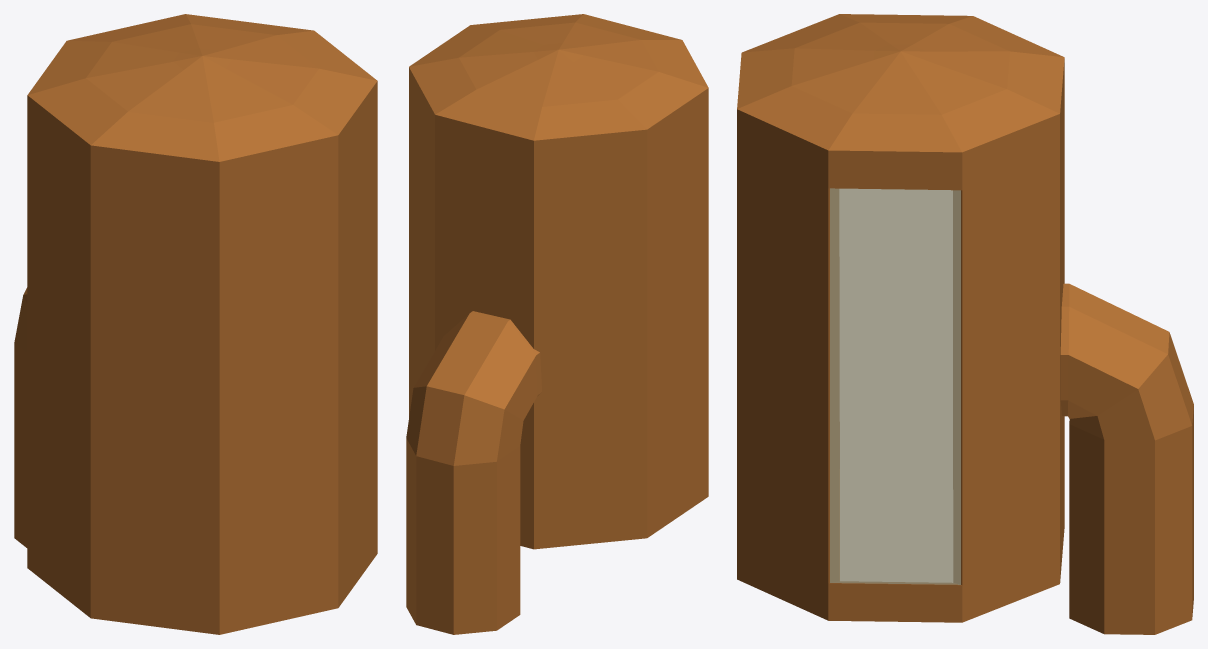
File: VAT80.glb
3 renders of one model, left to right at view 1: azimuth 30°, elevation 25°; view 2: azimuth 150°, elevation 25°; view 3: azimuth 270°, elevation 25°, orthographic. The views are drawn at different scales.
Visible parts, largest first — view 1: Cylinder, Cylinder.001; view 2: Cylinder, Cylinder.001; view 3: Cylinder, glass, liquidHeight, Cylinder.001.
Part boxes in pixels (bbox=[...]): Cylinder: bbox=[27, 14, 377, 634]; Cylinder.001: bbox=[14, 287, 27, 547]; Cylinder: bbox=[409, 14, 708, 549]; Cylinder.001: bbox=[406, 311, 541, 634]; Cylinder: bbox=[737, 14, 1064, 622]; glass: bbox=[830, 188, 960, 584]; liquidHeight: bbox=[840, 189, 952, 582]; Cylinder.001: bbox=[1060, 283, 1193, 634].
Bounding box in the file's own units: 1.82 × 3.44 × 2.54.
